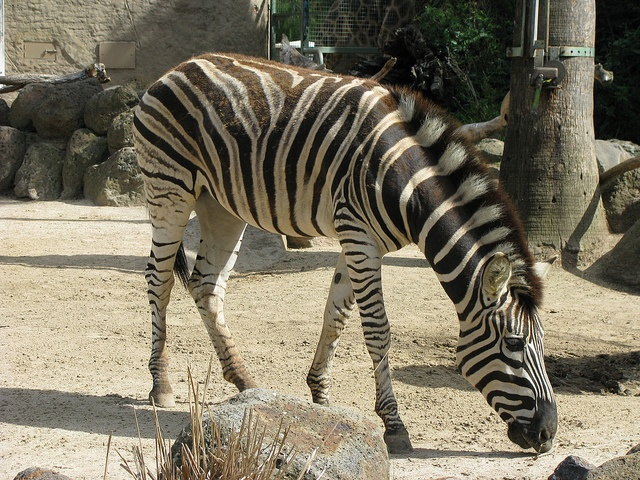zebra: (130, 52, 558, 462)
